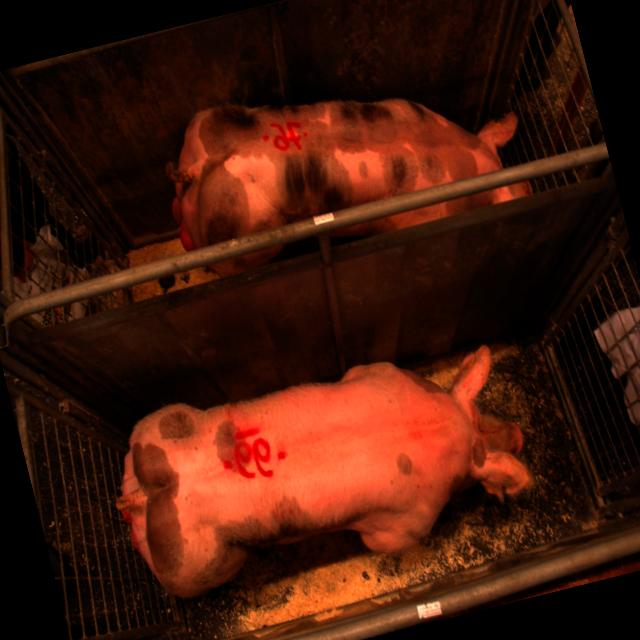pig: (115, 346, 532, 599), (171, 98, 517, 251), (329, 180, 532, 238)
